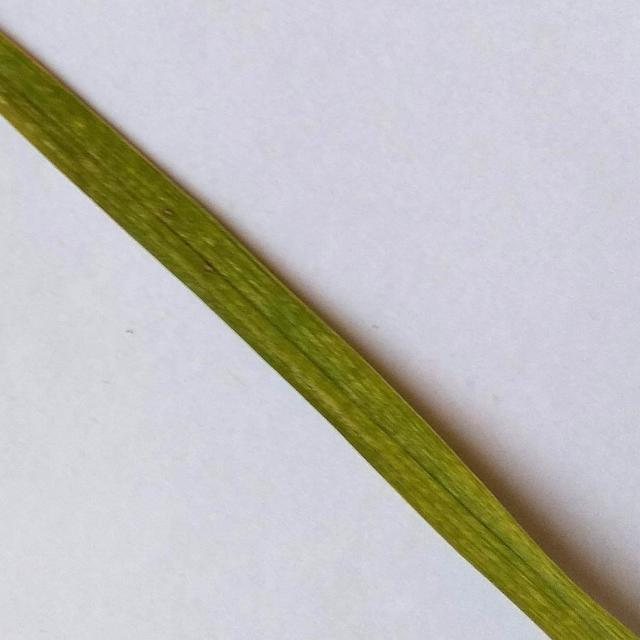Rice_Healthy: (0, 32, 640, 640)
